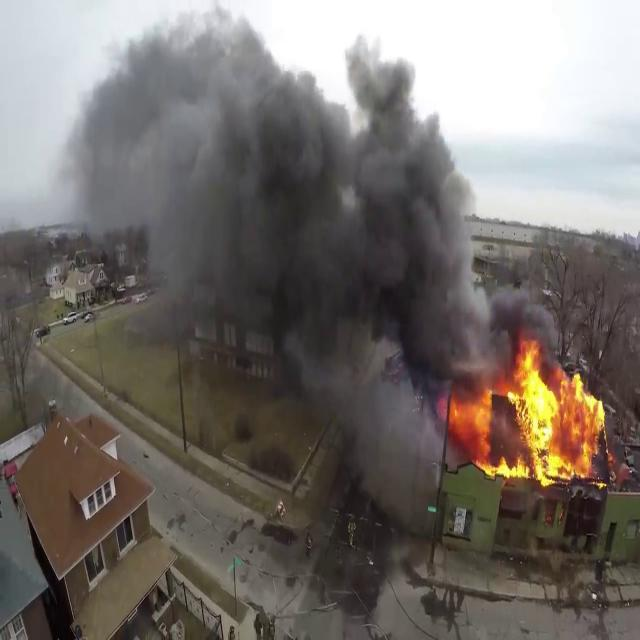Fire: (454, 335, 612, 489)
Smoke: (73, 1, 541, 411)
